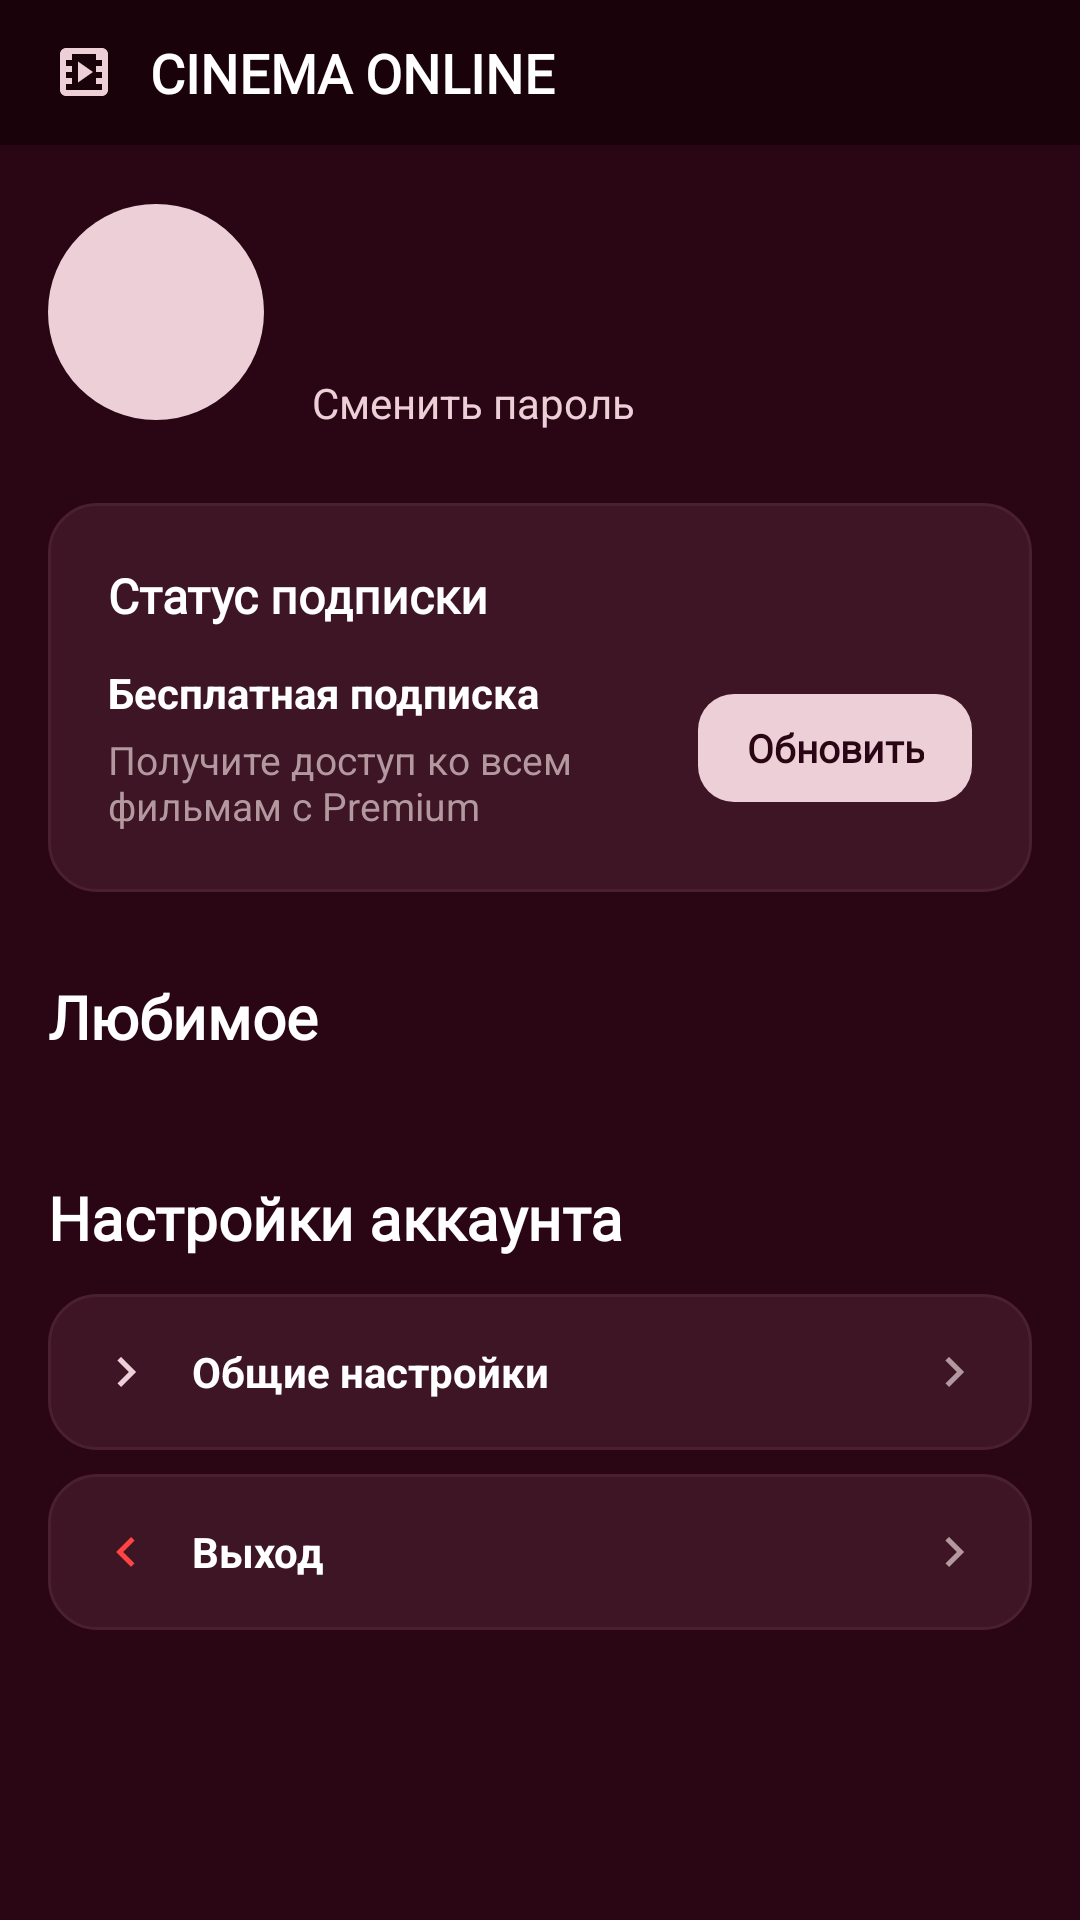

Where to tap for icons on this 1080w x 1920h app screen, as (x=x, y=y):
arrow back: (x=125, y=1552)
chevron right: (x=126, y=1372), (x=954, y=1372), (x=954, y=1552)
